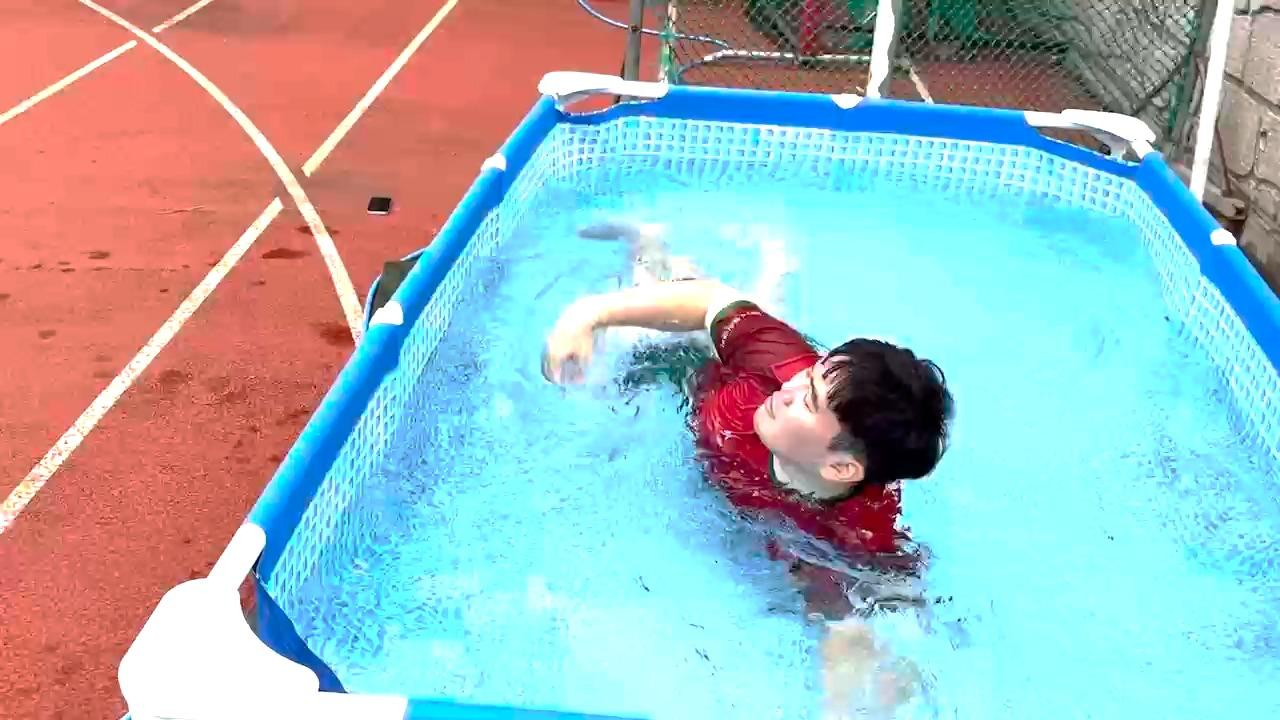Swimming: (557, 166, 992, 700)
